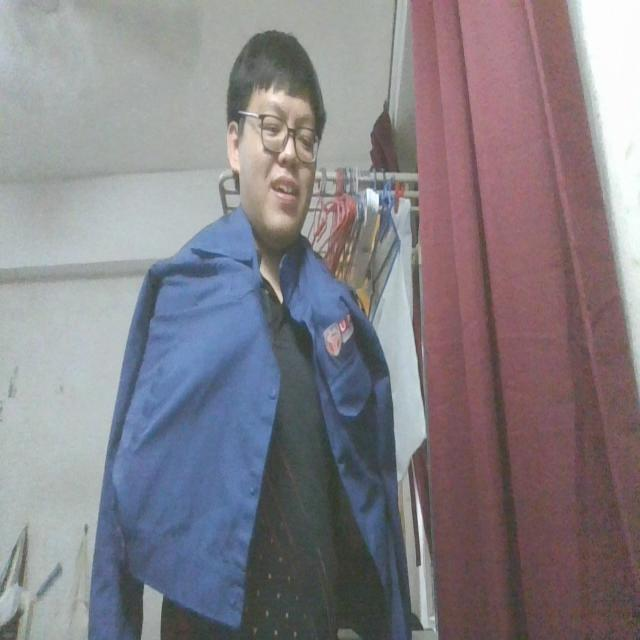person_without_labcoat: (89, 32, 410, 639)
